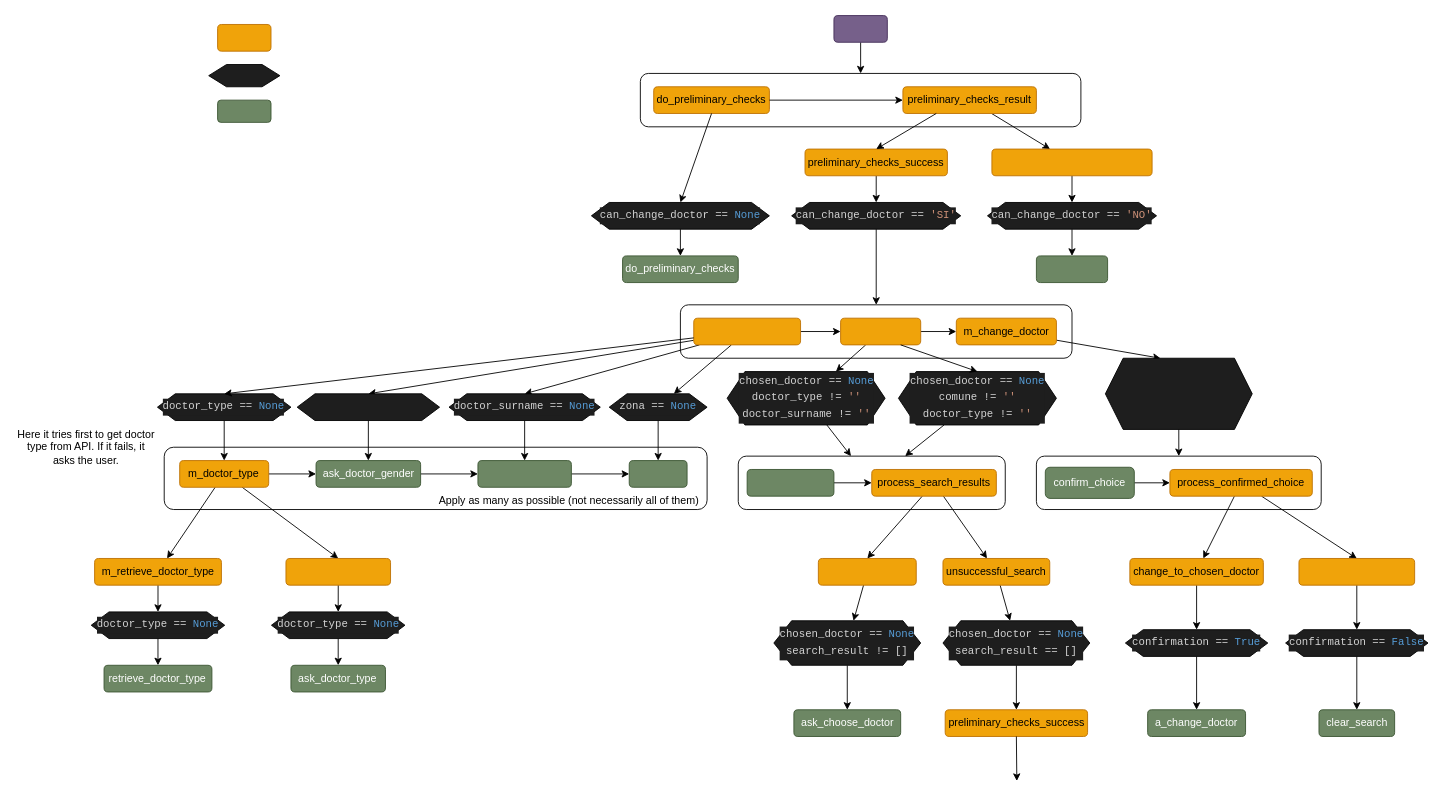
Image size: 1444x804. Some labels were removed from this diagram. Here are the shapes that lost their labels. From the top down, the centre of each, then its label:
At pixel 244 37: "method".
At pixel 860 28: "endpoint".
At pixel 244 75: "condition".
At pixel 244 110: "action".
At pixel 1071 162: "preliminary_checks_no_success".
At pixel 1072 269: "do_nothing".
At pixel 747 331: "collect_requirements".
At pixel 880 331: "choose_doctor".
At pixel 368 407: "doctor_gender == None".
At pixel 1178 393: "chosen_doctor doctor_name != '' doctor_surname != '' doctor_type".
At pixel 524 473: "ask_doctor_name".
At pixel 657 473: "ask_zona".
At pixel 790 482: "get_doctor_list".
At pixel 338 571: "m_ask_doctor_type".
At pixel 866 571: "successful_search".
At pixel 1356 571: "cancel_search_results".
